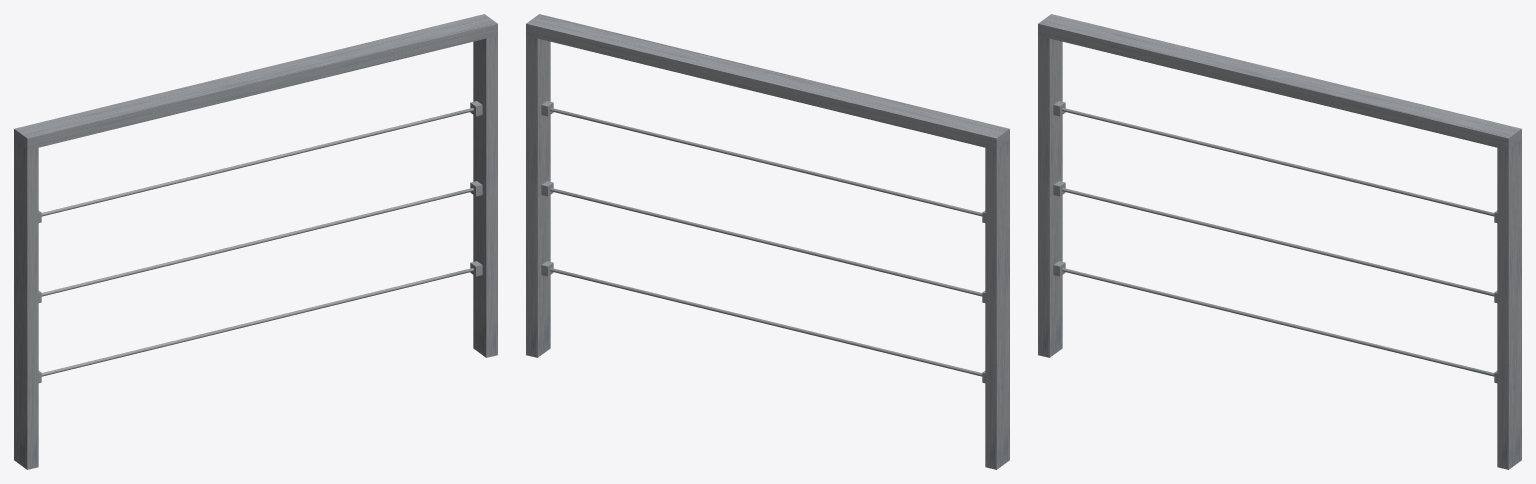
File: cerca-02.obj
The picture shows the model from 3 angles, left to right: view 1: azimuth 30°, elevation 25°; view 2: azimuth 150°, elevation 25°; view 3: azimuth 330°, elevation 25°; orthographic projection.
Parts seen in each view (by area): view 1: Box003, Box002, Box001, Cylinder001, Cylinder002, Cylinder003; view 2: Box003, Box002, Box001, Cylinder001, Cylinder002, Cylinder003; view 3: Box003, Box001, Box002, Cylinder001, Cylinder002, Cylinder003.
Boxes of the visible parts, x1=… form: Box003: x1=14, y1=14, x2=497, y2=149; Box002: x1=14, y1=140, x2=38, y2=469; Box001: x1=473, y1=35, x2=497, y2=357; Cylinder001: x1=41, y1=108, x2=473, y2=216; Cylinder002: x1=41, y1=188, x2=473, y2=296; Cylinder003: x1=41, y1=268, x2=473, y2=376; Box003: x1=526, y1=14, x2=1009, y2=149; Box002: x1=985, y1=140, x2=1009, y2=469; Box001: x1=526, y1=35, x2=550, y2=357; Cylinder001: x1=550, y1=108, x2=982, y2=216; Cylinder002: x1=550, y1=188, x2=982, y2=296; Cylinder003: x1=550, y1=268, x2=982, y2=376; Box003: x1=1038, y1=14, x2=1521, y2=149; Box001: x1=1497, y1=140, x2=1521, y2=469; Box002: x1=1038, y1=35, x2=1062, y2=357; Cylinder001: x1=1062, y1=108, x2=1494, y2=216; Cylinder002: x1=1062, y1=188, x2=1494, y2=296; Cylinder003: x1=1062, y1=268, x2=1494, y2=376.
Bounding box in the file's own units: 61.5 × 41.4 × 3.
